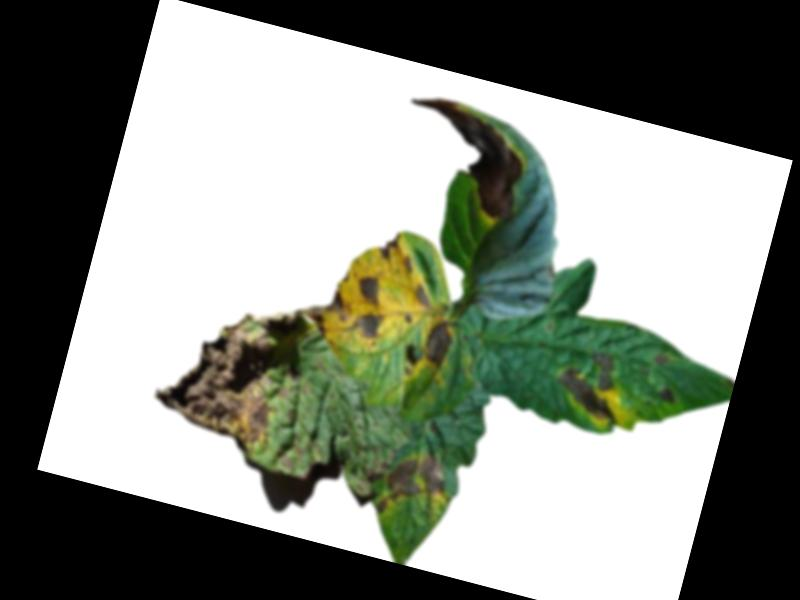Early_blight: (147, 283, 306, 457), (387, 90, 536, 222), (371, 441, 452, 532), (550, 342, 632, 425), (291, 278, 356, 344), (417, 312, 458, 370), (348, 307, 387, 347), (354, 452, 385, 500), (353, 272, 385, 306), (375, 226, 403, 263), (409, 282, 437, 307), (274, 449, 297, 472), (657, 383, 678, 404), (402, 252, 416, 271), (652, 352, 669, 365)
